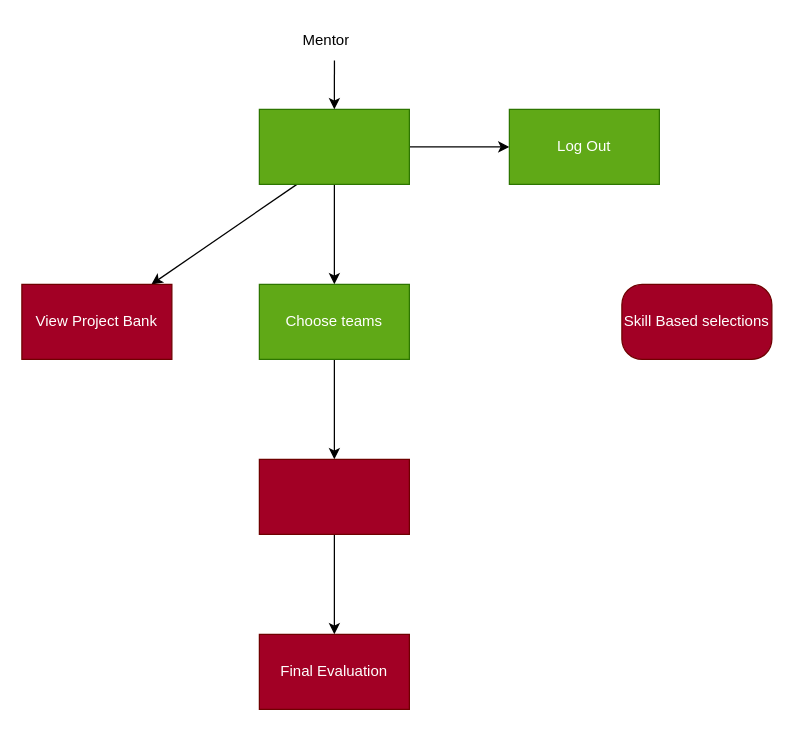
This 794x731 diagram has some shape labels left out. Each missing label, with the box of its shape:
Log In: (258, 108, 409, 184)
Weekly Evaluation: (258, 458, 409, 534)
